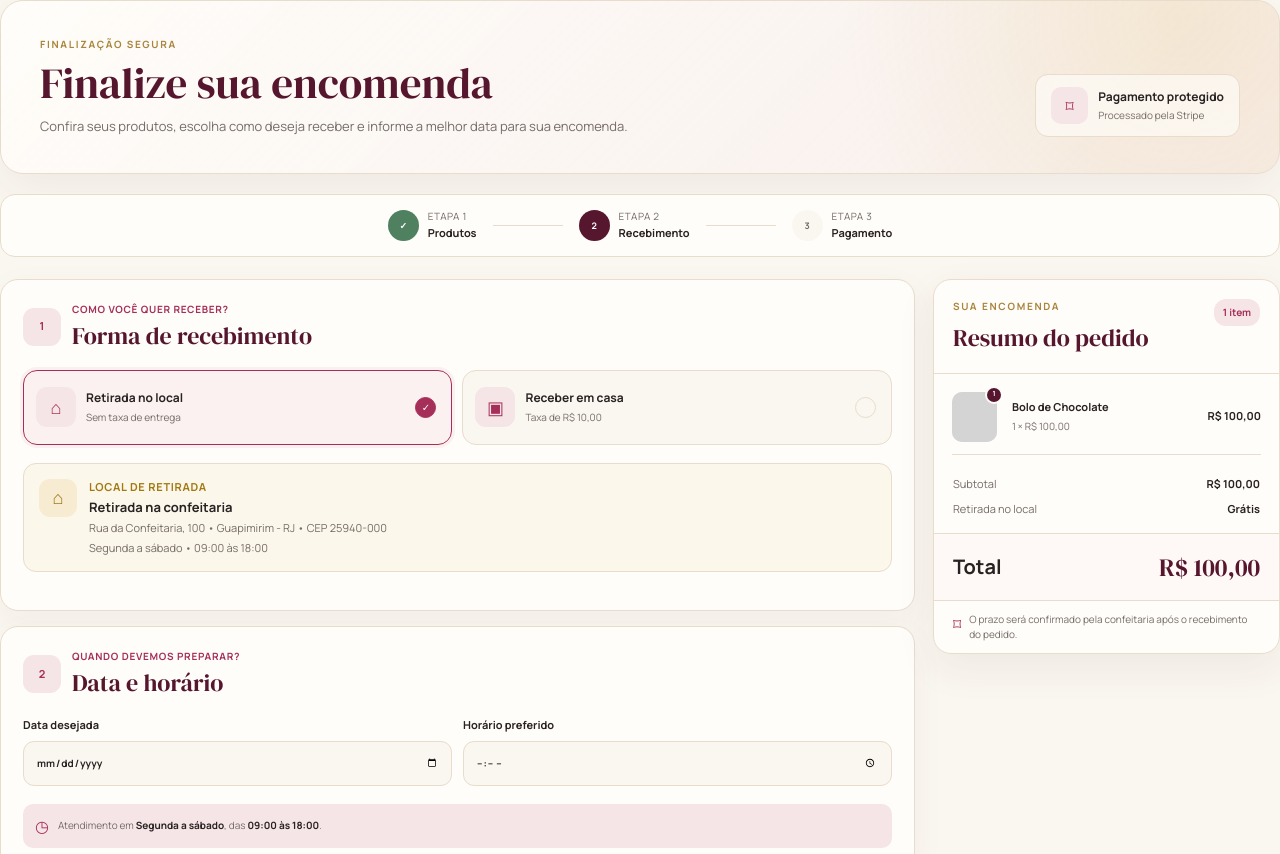
Test case: Payment - validações › rejeita endereço muito curto
Click the button "▣ Receber em casa Taxa de R$ 10,00" at {"x": 495, "y": 407}, box [462,370,892,445]
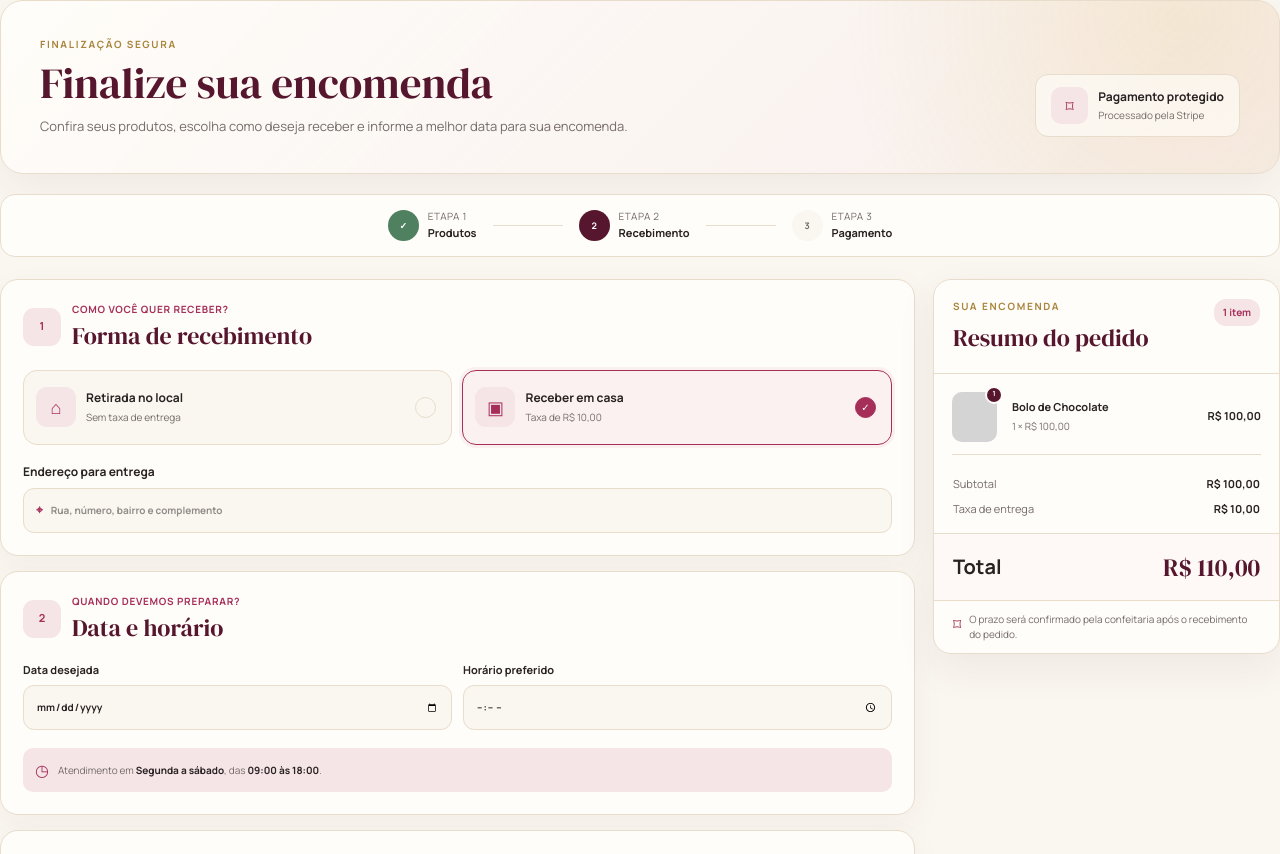
Type "Rua 1" into the field labelled "Endereço para entrega ⌖" at {"x": 465, "y": 510}, box [51,503,879,518]
(page scrolled)
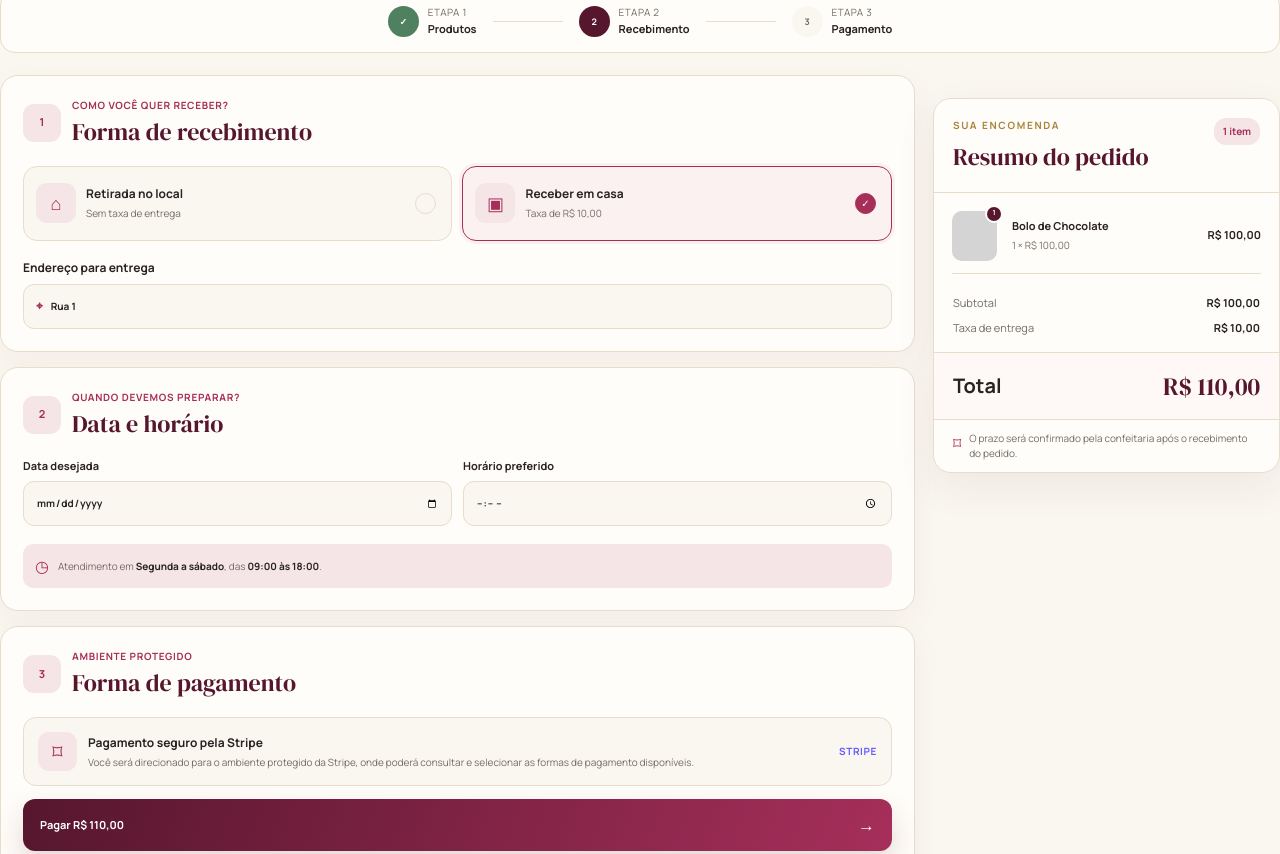
Click the button "Pagar R$ 110,00 →" at {"x": 82, "y": 824}, box [23,799,892,851]
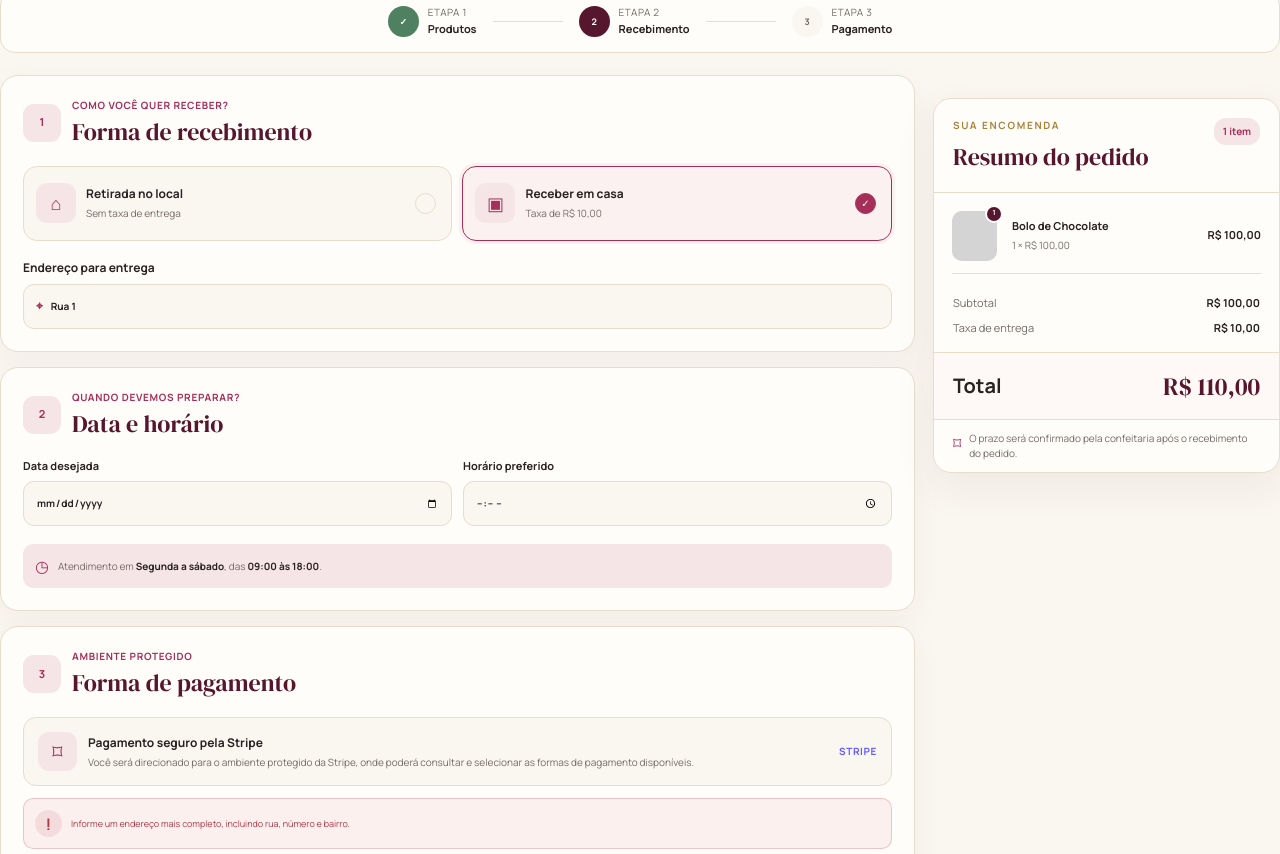
Now the message shows "endereço mais completo", box [71,817,350,830]
